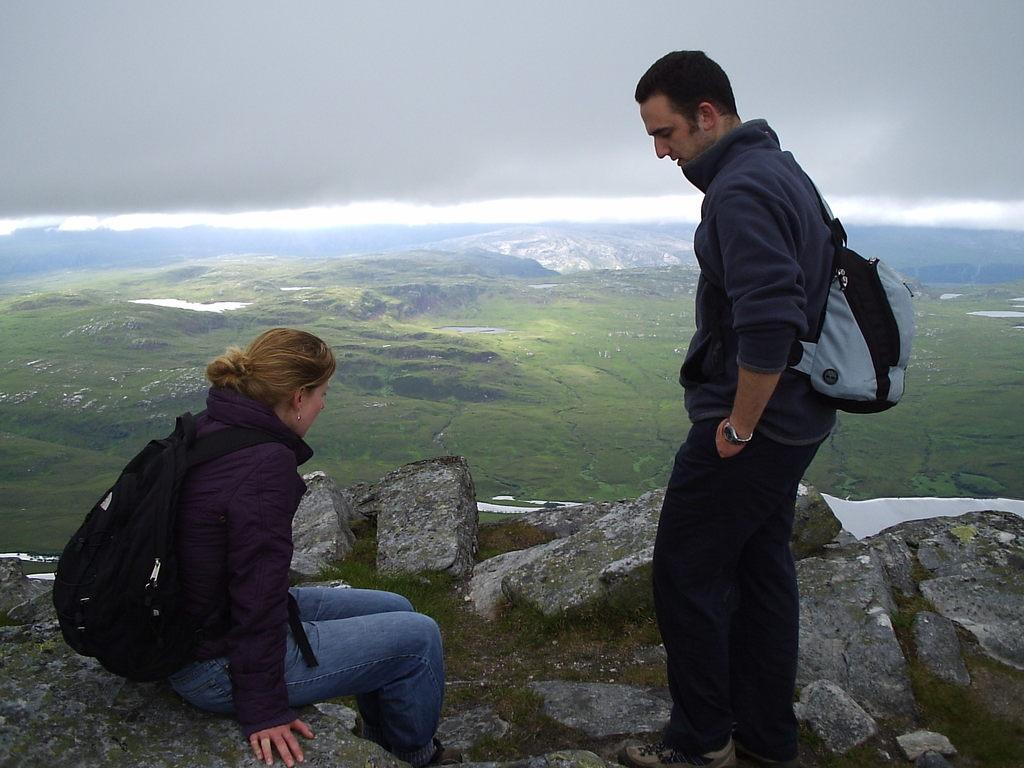Luggage-and-bags: (83, 394, 284, 691), (793, 156, 916, 415)
